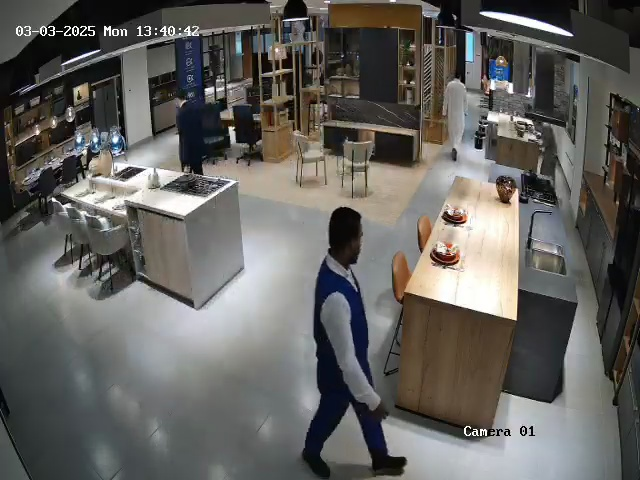employee: (301, 206, 408, 479), (165, 83, 212, 178)
male: (441, 72, 468, 162)
